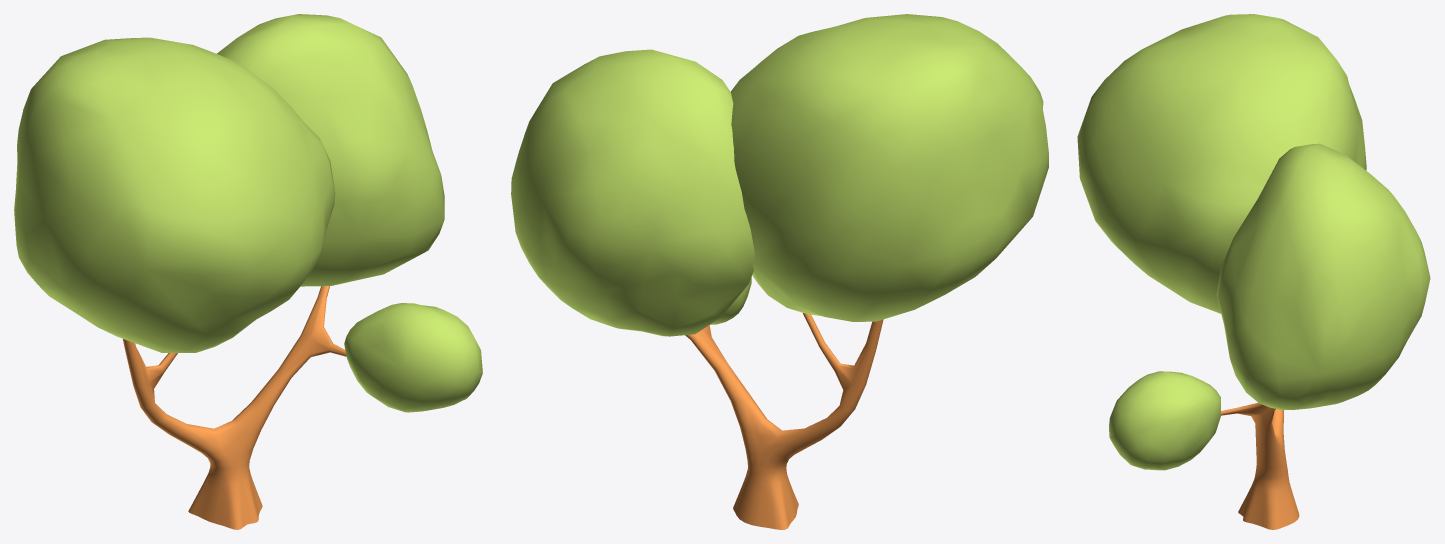
The model's file is BigTree_E.fbx.
3 renders of one model, left to right at view 1: azimuth 30°, elevation 25°; view 2: azimuth 150°, elevation 25°; view 3: azimuth 270°, elevation 25°, orthographic. The views are drawn at different scales.
Parts seen in each view (by area): view 1: Oak_Tree_l_02; view 2: Oak_Tree_l_02; view 3: Oak_Tree_l_02.
Boxes of the visible parts, bbox=[...] form: Oak_Tree_l_02: bbox=[14, 14, 482, 529]; Oak_Tree_l_02: bbox=[511, 14, 1048, 529]; Oak_Tree_l_02: bbox=[1077, 14, 1430, 529].
Size of the model in its own units: 1075 by 1143 by 838.
